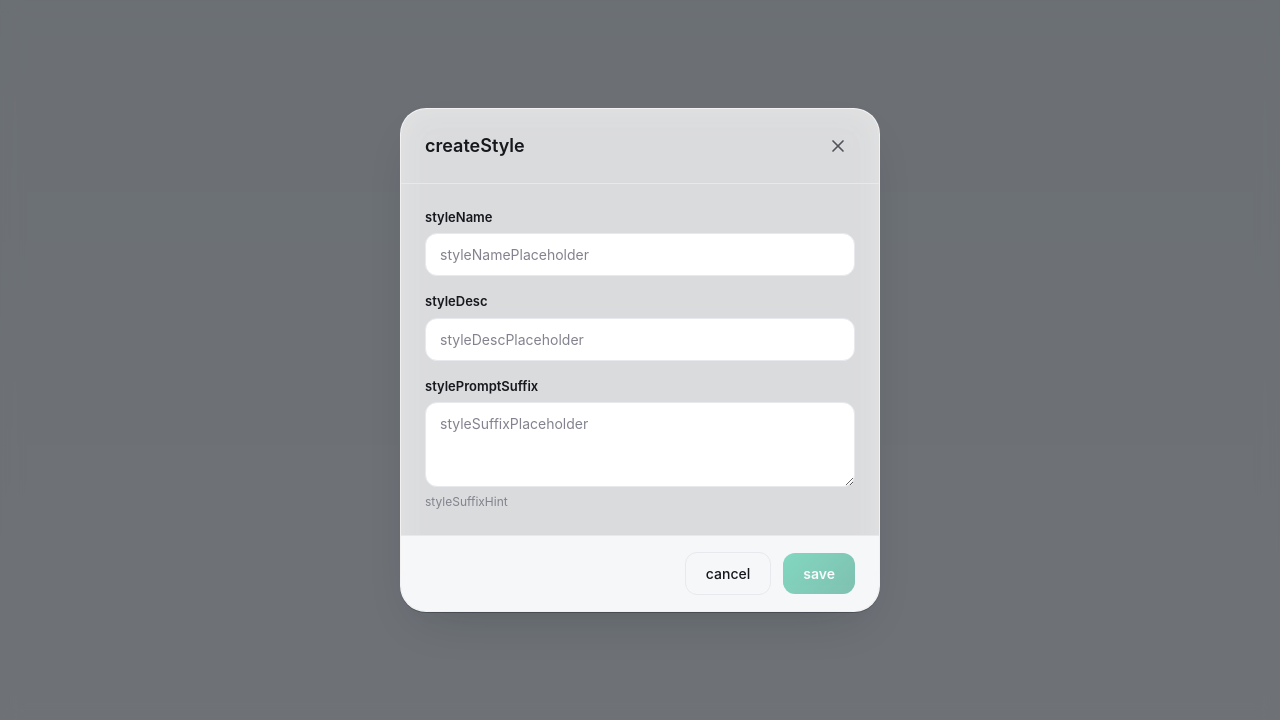
CustomStyleDialog › prompts before closing a dirty open form
Type "My style" into the field with id "style-name" at [640, 255], box x1=425 y1=233 x2=855 y2=276
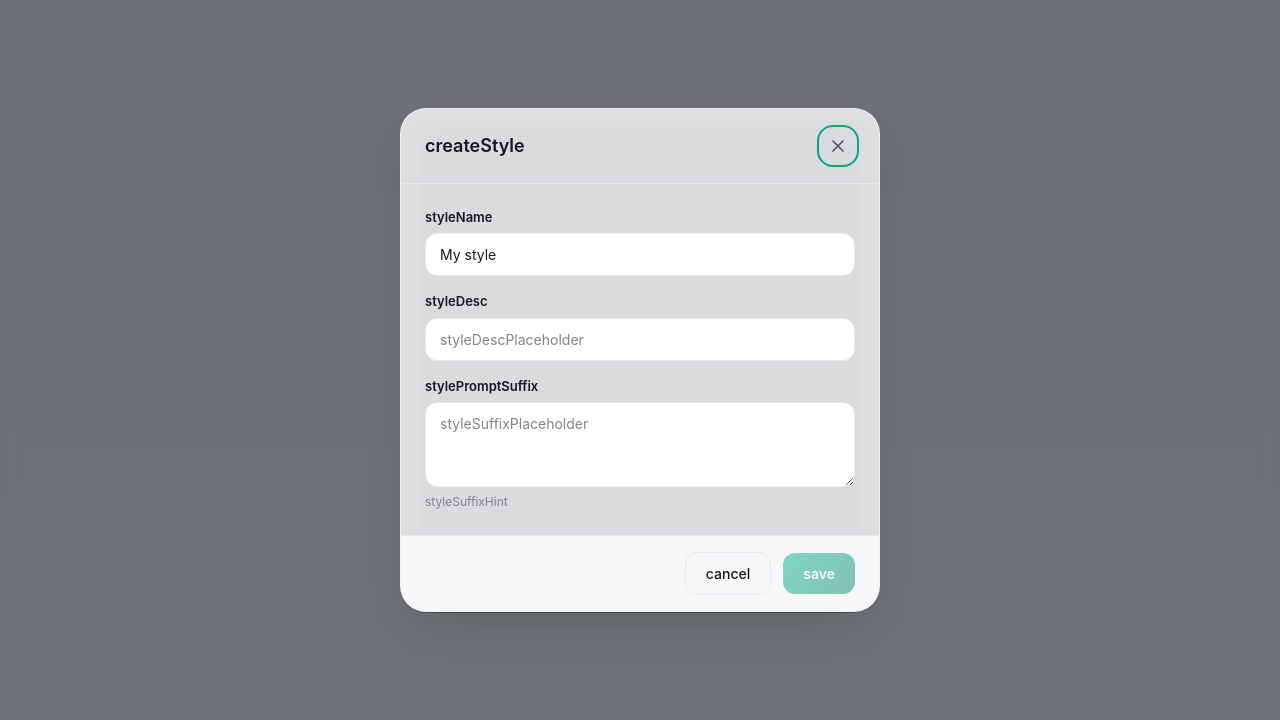
Click the button named "close" at [838, 146], box x1=821 y1=129 x2=855 y2=163
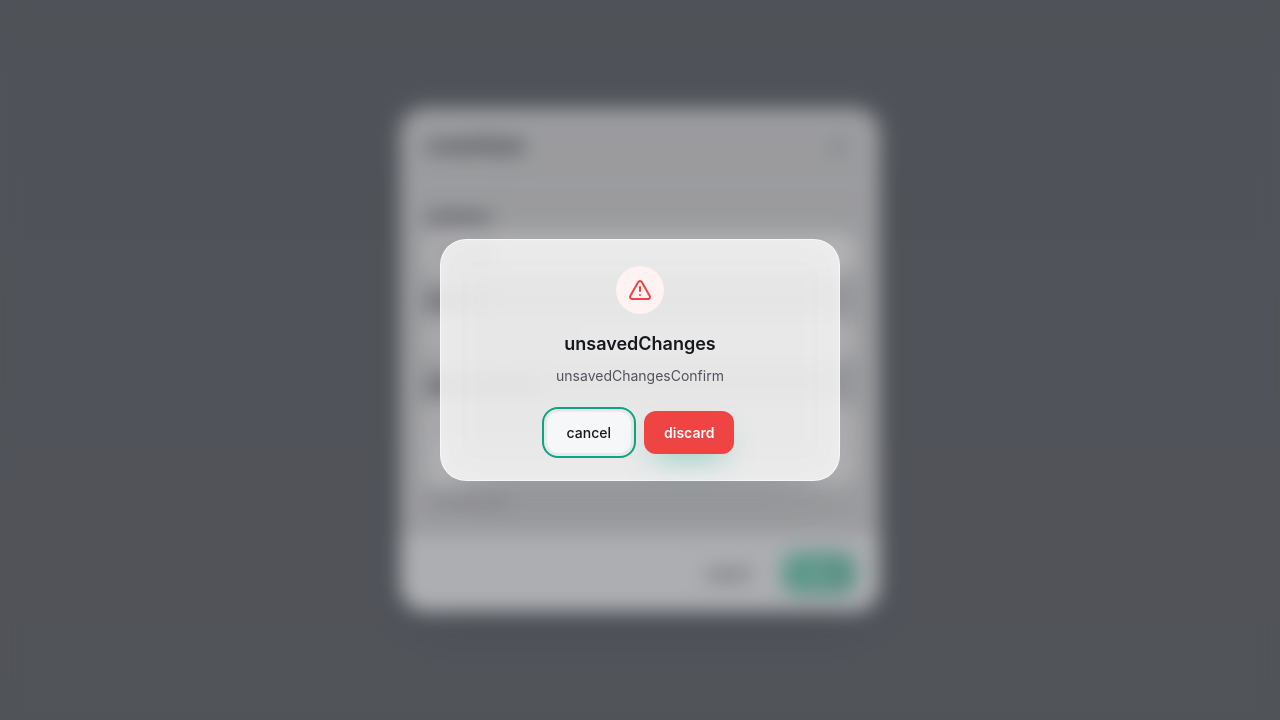
Result: the text "unsavedChanges" is shown at x1=564 y1=333 x2=716 y2=354
